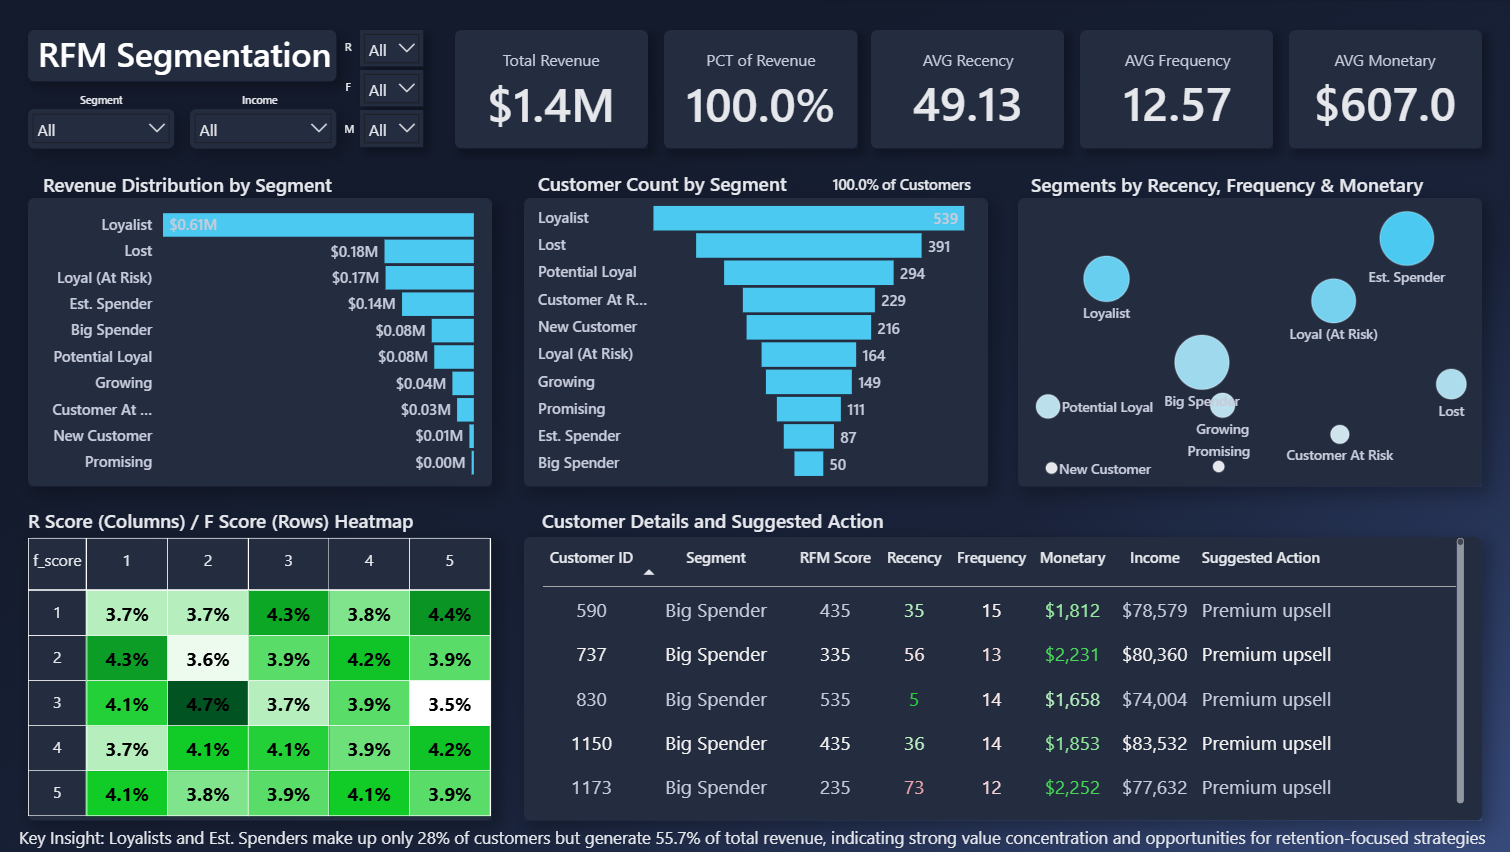

Layout of this report page (visuals, bound fields, positions):
{"tool":"powerbi","page":{"name":"Page 2","canvas":[1920,1080],"ordinal":0},"visuals":[{"type":"shape","box":[40.3,681.2,587.1,358.5],"z":0},{"type":"textbox","box":[40.8,40,389.7,65],"z":1000},{"type":"slicer","fields":{"Values":["data-[number redacted].rfm_segmenting"]},"box":[40.8,140.5,185,50],"z":2000},{"type":"slicer","fields":{"Values":["customer_dataset_cleaned.income_segment"]},"box":[245,140.5,185,49.9],"z":3000},{"type":"shape","box":[1292.9,253.2,587.1,365.2],"z":4000},{"type":"scatterChart","title":"Segments by Recency / Frequency & Monetary (Size)","fields":{"Y":["data-[number redacted].avg_frequency"],"X":["data-[number redacted].avg_recency"],"Size":["data-[number redacted].avg_monetary"],"Category":["data-[number redacted].rfm_segmenting"]},"box":[1308.5,218.1,574,399.8],"z":5000},{"type":"pivotTable","title":"R Score (Columns) / F Score (Rows) Heatmap","fields":{"Values":["data-[number redacted].pct_of_segment"],"Rows":["data-[number redacted].f_score"],"Columns":["data-[number redacted].r_score"]},"box":[40.8,643.4,587.6,395.8],"z":6000},{"type":"shape","box":[580.8,40.8,244,149.6],"z":7000},{"type":"cardVisual","fields":{"Data":["Sum(data-[number redacted].monetary)"]},"box":[550.1,39.2,304.8,151.8],"z":8000},{"type":"shape","box":[667.7,681.2,1212.2,358.5],"z":9000},{"type":"shape","box":[844.7,40.8,244.8,150],"z":10000},{"type":"cardVisual","fields":{"Data":["data-[number redacted].pct_of_monetary"]},"box":[826,39,283.1,151.9],"z":11000},{"type":"shape","box":[1106.9,40.3,244.2,150],"z":12000},{"type":"cardVisual","fields":{"Data":["data-[number redacted].avg_recency"]},"box":[1107.3,40.8,243.2,148],"z":13000},{"type":"tableEx","title":"Customer Details and Suggested Action","fields":{"Values":["data-[number redacted].customer_id","data-[number redacted].rfm_segmenting","Sum(data-[number redacted].rfm_score)","Sum(data-[number redacted].recency)","Sum(data-[number redacted].frequency)","Sum(data-[number redacted].monetary)","Sum(customer_dataset_cleaned.income)","data-[number redacted].suggested_action"]},"box":[685.6,643.1,1176.3,380],"z":14000},{"type":"shape","box":[1371.3,40.3,244.2,150],"z":15000},{"type":"cardVisual","fields":{"Data":["data-[number redacted].avg_frequency"]},"box":[1371.6,40.8,244.7,148],"z":16000},{"type":"shape","box":[1635.7,40.3,244.2,150],"z":17000},{"type":"cardVisual","fields":{"Data":["data-[number redacted].avg_monetary"]},"box":[1614.9,40.8,284,148],"z":18000},{"type":"shape","box":[667.7,253.2,587.1,365.2],"z":19000},{"type":"funnel","title":"Customer Count by Segment","fields":{"Category":["data-[number redacted].rfm_segmenting"],"Y":["data-[number redacted].count_customer"]},"box":[685.5,217.6,544.1,390.4],"z":20000},{"type":"shape","box":[40.3,253.2,587.1,365],"z":21000},{"type":"barChart","title":"Revenue Distribution by Segment","fields":{"Category":["data-[number redacted].rfm_segmenting"],"Y":["Sum(data-[number redacted].monetary)"]},"box":[58.9,219,549.9,400.3],"z":22000},{"type":"slicer","fields":{"Values":["data-[number redacted].r_score"]},"box":[460.6,40.6,80,46],"z":23000},{"type":"slicer","fields":{"Values":["data-[number redacted].f_score"]},"box":[460.7,91,80.1,46],"z":24000},{"type":"slicer","fields":{"Values":["data-[number redacted].m_score"]},"box":[460.4,141.8,80.2,47],"z":25000},{"type":"textbox","box":[24.6,1024,1875.4,56],"z":26000},{"type":"cardVisual","fields":{"Data":["data-[number redacted].pct_of_customers"]},"box":[1041.2,209.7,115.2,43.6],"z":27000},{"type":"textbox","box":[1115.8,217.6,139.4,39.4],"z":28000},{"type":"textbox","box":[434,47.7,22.8,32],"z":29000},{"type":"textbox","box":[434,98.8,22.8,29.9],"z":30000},{"type":"textbox","box":[434.9,151.9,23.2,29],"z":31000},{"type":"textbox","box":[106.2,119.9,53.9,17],"z":32000},{"type":"textbox","box":[310.8,120.3,46.5,16.6],"z":33000}]}

Visuals, with their boxes in screenshot pixels (x1, y1, x2, y2), scaled from the page's 1920x1080 canvas onto the 1510x852 screenshot:
shape: 32 537 493 820
textbox: 32 32 339 83
slicer - data-[number redacted].rfm_segmenting: 32 111 178 150
slicer - customer_dataset_cleaned.income_segment: 193 111 338 150
shape: 1017 200 1479 488
"Segments by Recency / Frequency & Monetary (Size)" scatterChart: 1029 172 1481 487
"R Score (Columns) / F Score (Rows) Heatmap" pivotTable: 32 508 494 820
shape: 457 32 649 150
cardVisual - Sum(data-[number redacted].monetary): 433 31 672 151
shape: 525 537 1478 820
shape: 664 32 857 151
cardVisual - data-[number redacted].pct_of_monetary: 650 31 872 151
shape: 871 32 1063 150
cardVisual - data-[number redacted].avg_recency: 871 32 1062 149
"Customer Details and Suggested Action" tableEx: 539 507 1464 807
shape: 1078 32 1271 150
cardVisual - data-[number redacted].avg_frequency: 1079 32 1271 149
shape: 1286 32 1478 150
cardVisual - data-[number redacted].avg_monetary: 1270 32 1493 149
shape: 525 200 987 488
"Customer Count by Segment" funnel: 539 172 967 480
shape: 32 200 493 488
"Revenue Distribution by Segment" barChart: 46 173 479 489
slicer - data-[number redacted].r_score: 362 32 425 68
slicer - data-[number redacted].f_score: 362 72 425 108
slicer - data-[number redacted].m_score: 362 112 425 149
textbox: 19 808 1494 851
cardVisual - data-[number redacted].pct_of_customers: 819 165 909 200
textbox: 878 172 987 203
textbox: 341 38 359 63
textbox: 341 78 359 102
textbox: 342 120 360 143
textbox: 84 95 126 108
textbox: 244 95 281 108
